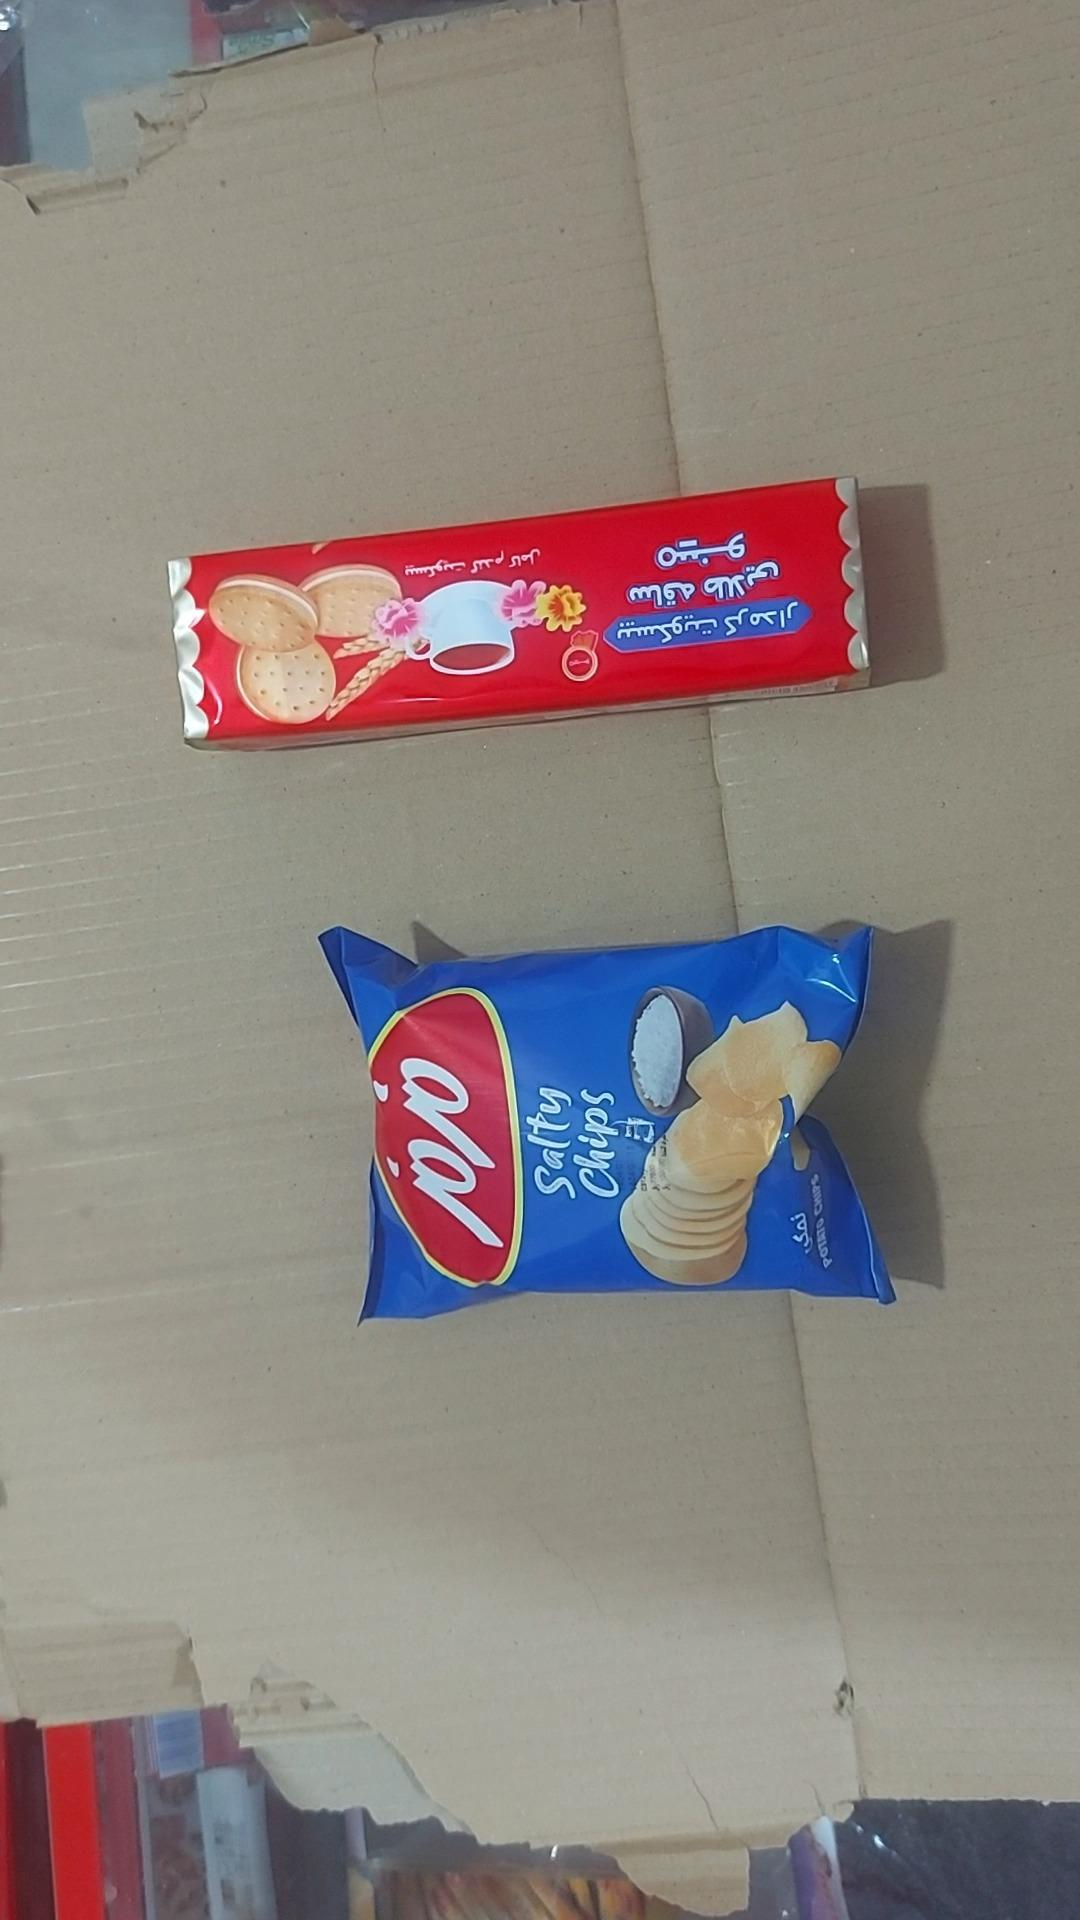Maz Maz salty chips: (316, 920, 895, 1323)
Minoo cream biscuit: (164, 480, 873, 757)
